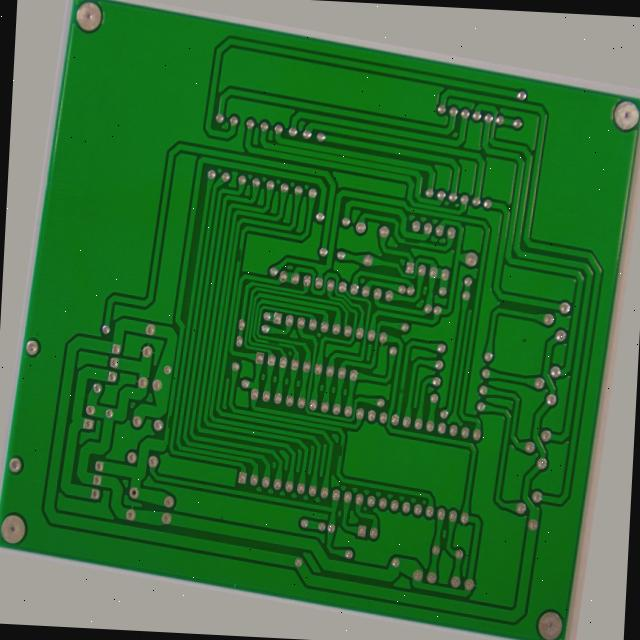mouse_bite: (161, 444, 171, 466), (222, 247, 231, 270), (349, 452, 359, 472), (401, 214, 422, 223), (264, 346, 280, 356)
